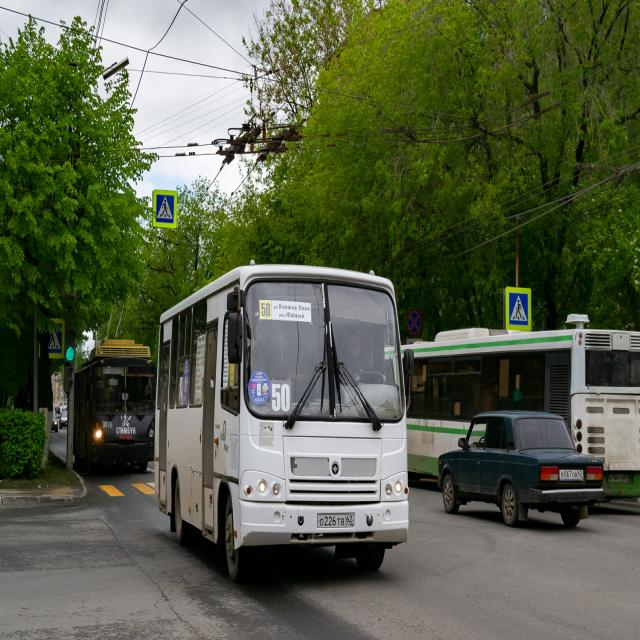number-of-bus: (272, 381, 292, 414), (260, 301, 273, 320)
